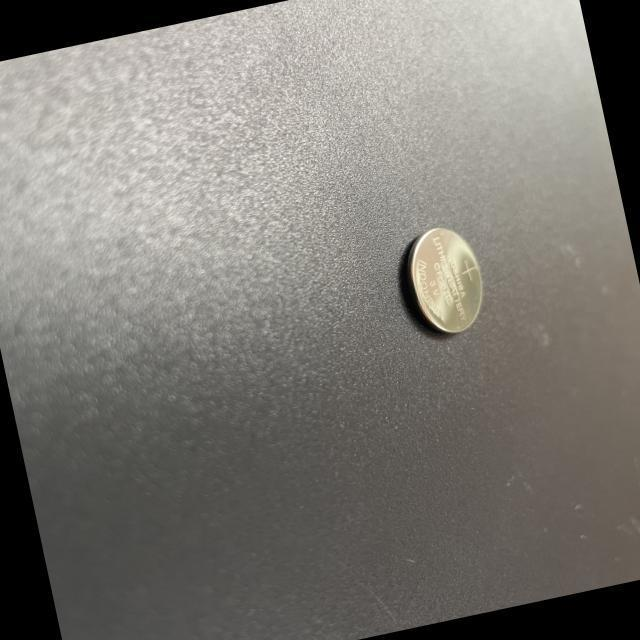COIN: (388, 216, 496, 348)
